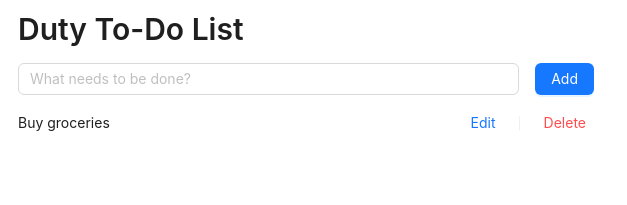
DutiesPage › loads and displays duties, then adds a new one
Expected: the list item "Buy groceries" is shown, [18,114,110,131]
Type "Walk the dog" into the field.
click(269, 79); type("Walk the dog")  # box [18,63,519,95]
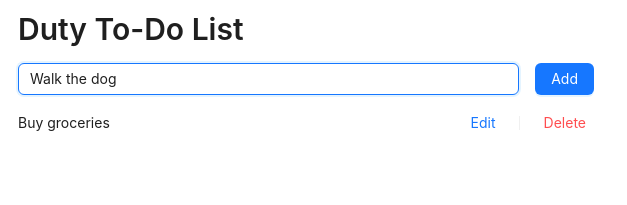
Click the button "Add".
click(565, 79)  # box [535,63,594,95]
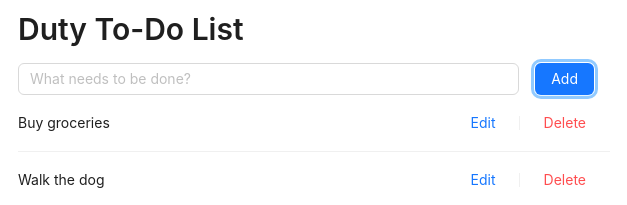
Expected: the list item "Walk the dog" is shown, [18,171,104,188]
